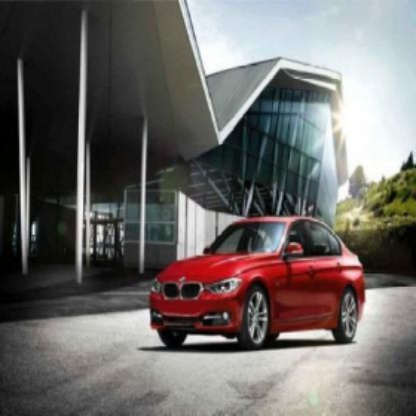Vehicle: (151, 214, 368, 352)
